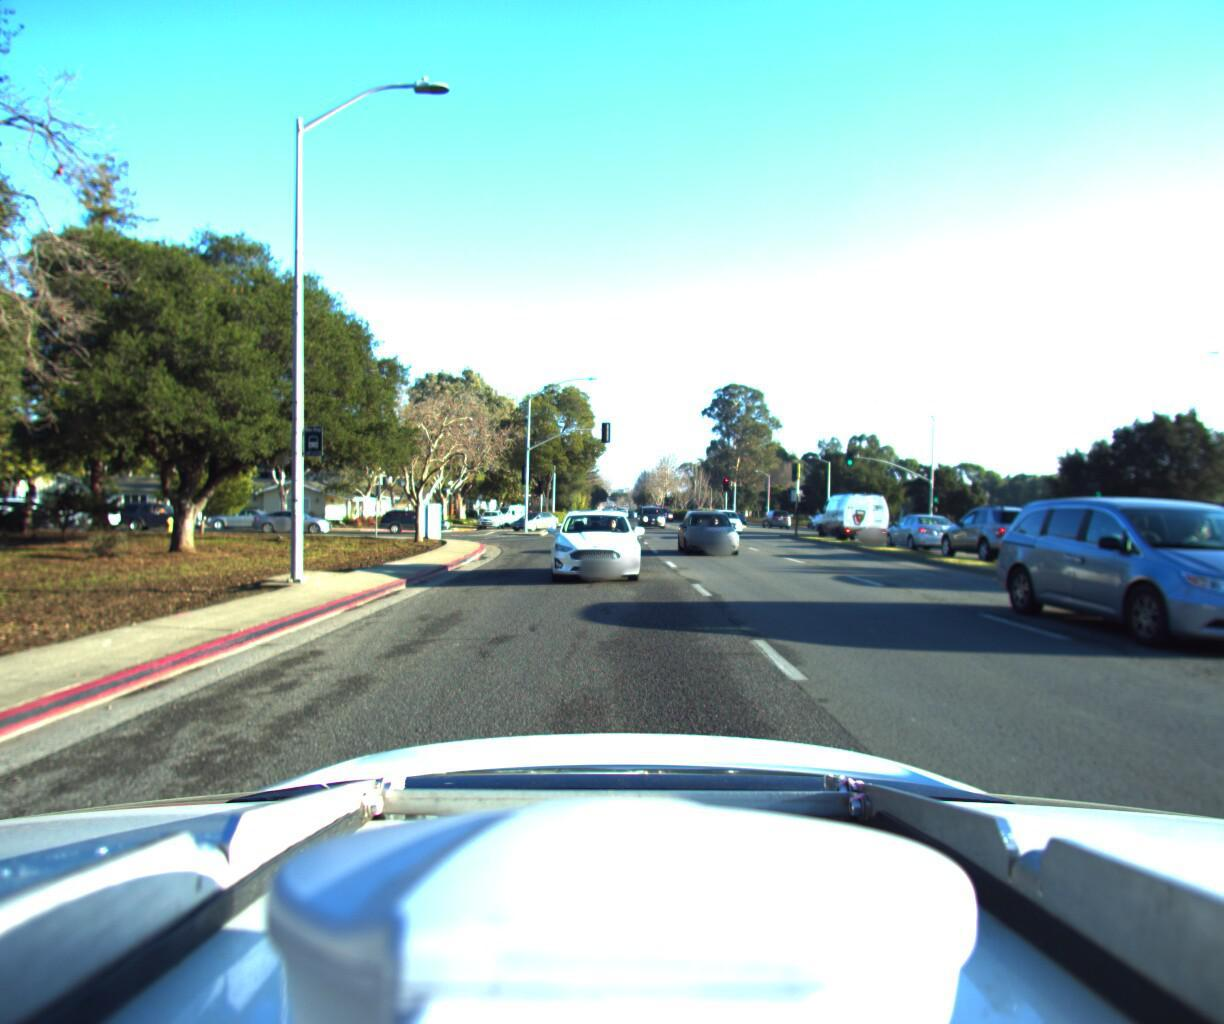car: (1038, 486, 1224, 697), (1077, 493, 1224, 600), (930, 497, 1061, 563), (541, 505, 639, 584), (876, 506, 964, 551), (679, 504, 749, 555), (106, 497, 202, 529), (0, 494, 80, 526), (248, 503, 334, 530), (376, 503, 452, 530), (202, 502, 282, 527), (499, 500, 556, 523), (710, 500, 748, 528), (474, 502, 505, 524), (639, 500, 669, 523), (760, 502, 791, 521)
other_vehicle: (810, 484, 888, 538)
truck: (485, 501, 526, 521)
